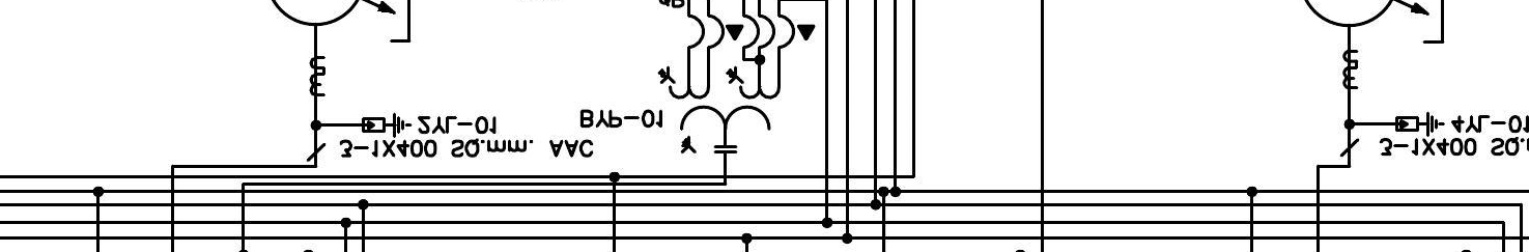115_cvt_3p: (657, 65, 781, 154)
115_la: (1395, 111, 1446, 138), (361, 112, 412, 139)
